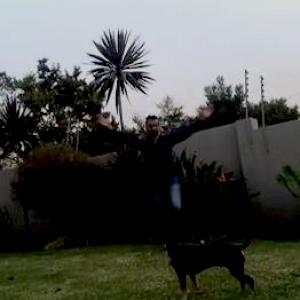takeoff: (92, 106, 218, 244)
